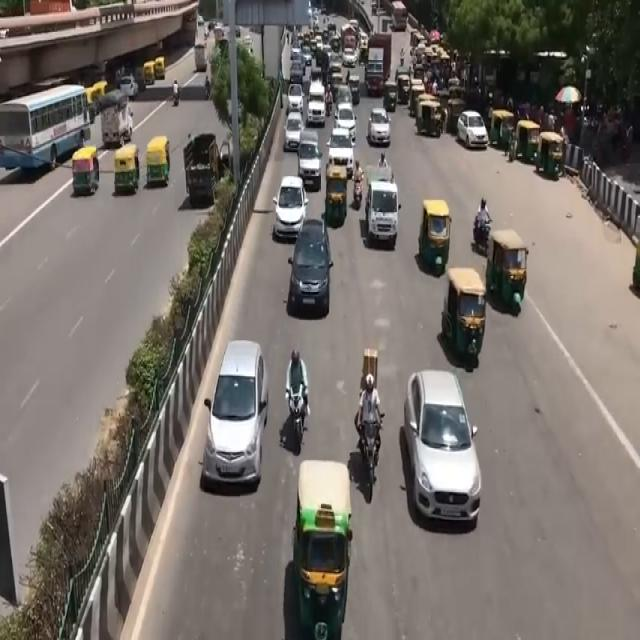BUS: (0, 86, 88, 185)
MOTORCYCLE: (356, 409, 383, 508), (288, 387, 307, 456)
TRUCK: (367, 34, 393, 98)
